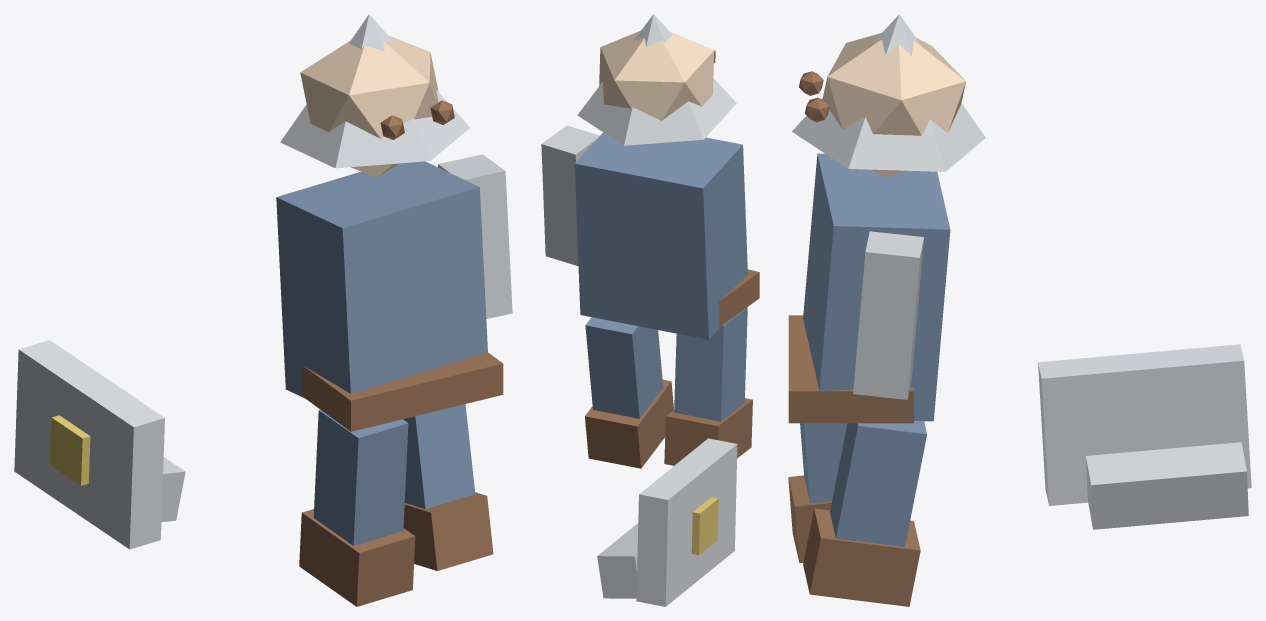
The model's file is npcpose_guard_attack_03.glb.
The picture shows the model from 3 angles, left to right: view 1: azimuth 30°, elevation 25°; view 2: azimuth 150°, elevation 25°; view 3: azimuth 270°, elevation 25°; orthographic projection. The views are drawn at different scales.
Visible parts, largest first — view 1: npcpose; view 2: npcpose; view 3: npcpose.
Part boxes in pixels (box(x1,y1,x2,y2)): npcpose: box(14, 14, 512, 606); npcpose: box(541, 14, 759, 606); npcpose: box(788, 14, 1251, 606).
Bounding box in the file's own units: 0.9397 × 1.59 × 1.18.
